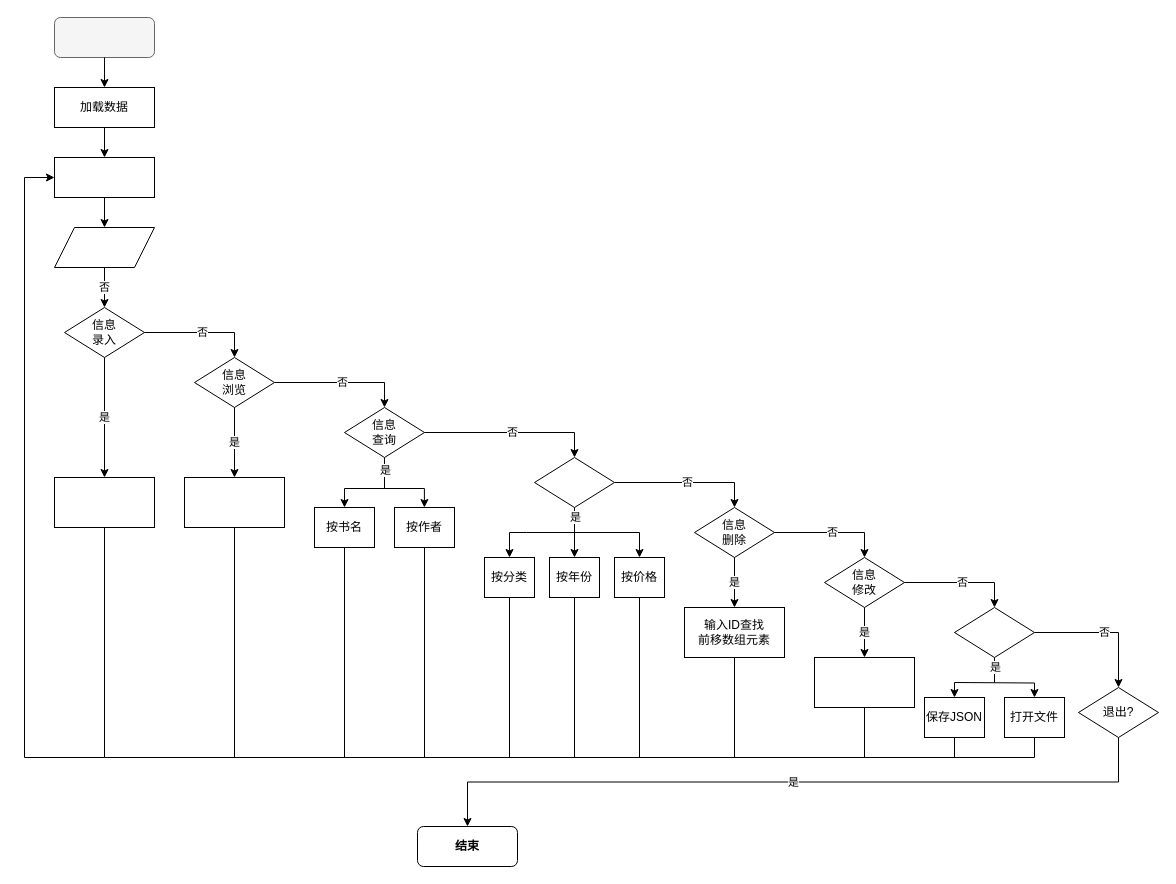
The diagram is 1176 pixels wide and 884 high, and some of its shapes have lost their labels. Each missing label, with the box of its shape:
图书 排序: (534, 456, 614, 508)
图书信息 管理系统: (54, 16, 154, 58)
打印表头 遍历数组输出: (184, 476, 284, 528)
数据 保存: (954, 606, 1034, 658)
显示主菜单: (54, 156, 154, 198)
输入ID查找 输入新字段: (814, 656, 914, 708)
输入图书信息 检查重复ID 存入数组: (54, 476, 154, 528)
输入选项: (54, 226, 154, 268)
